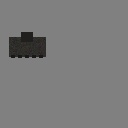armoured_vehicle: (9, 37, 46, 57)
